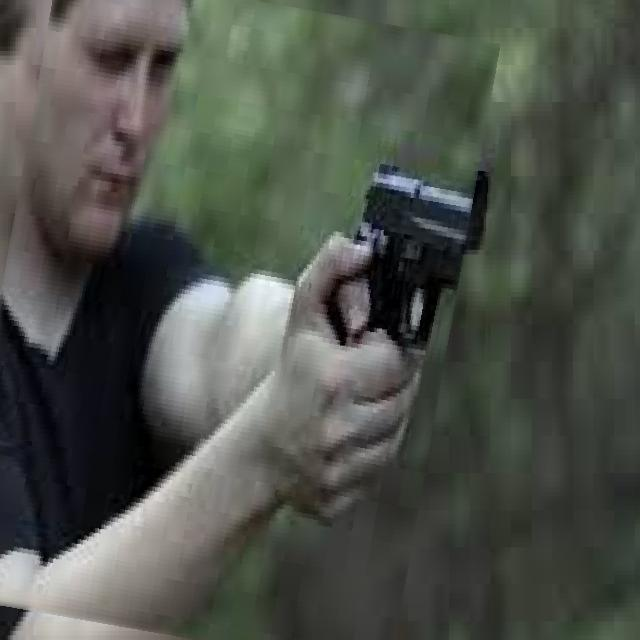Gun_Holder: (296, 152, 524, 395)
Person: (0, 0, 416, 640)
